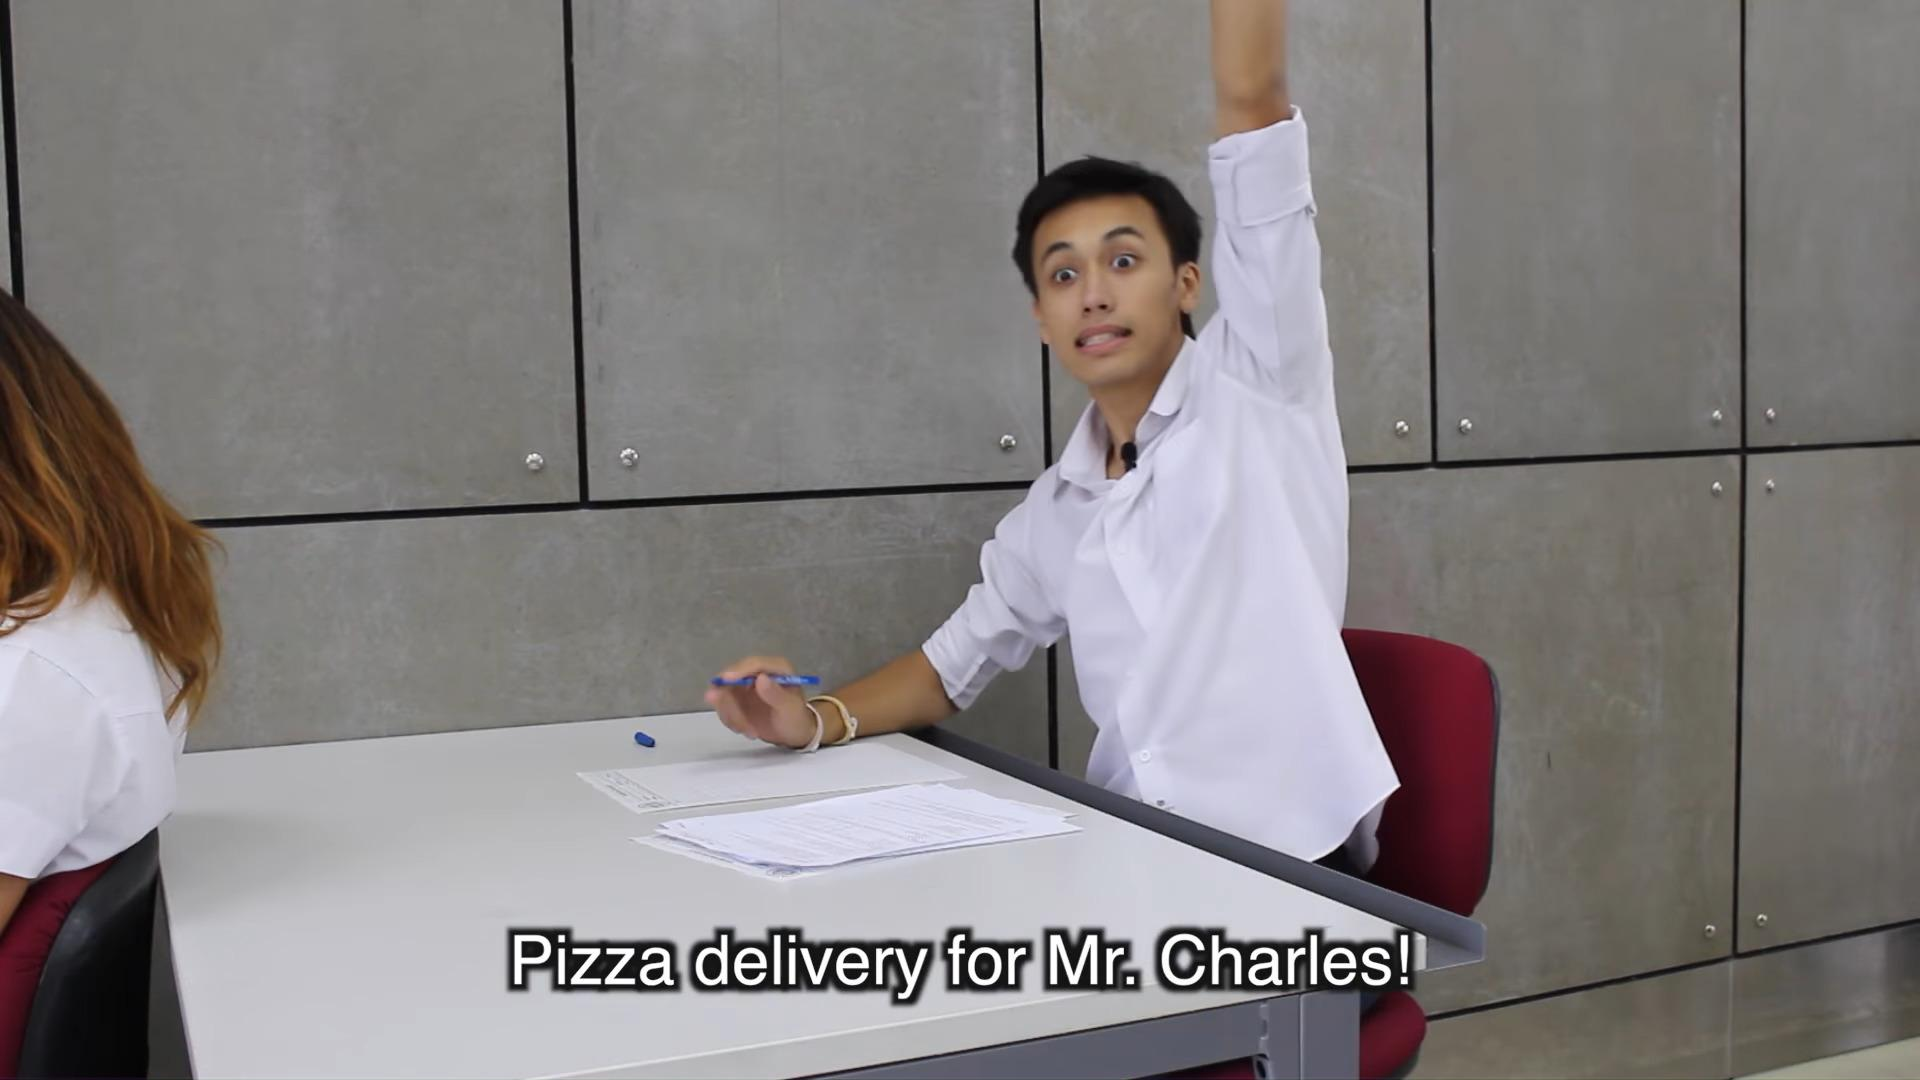good: (555, 0, 1513, 913)
